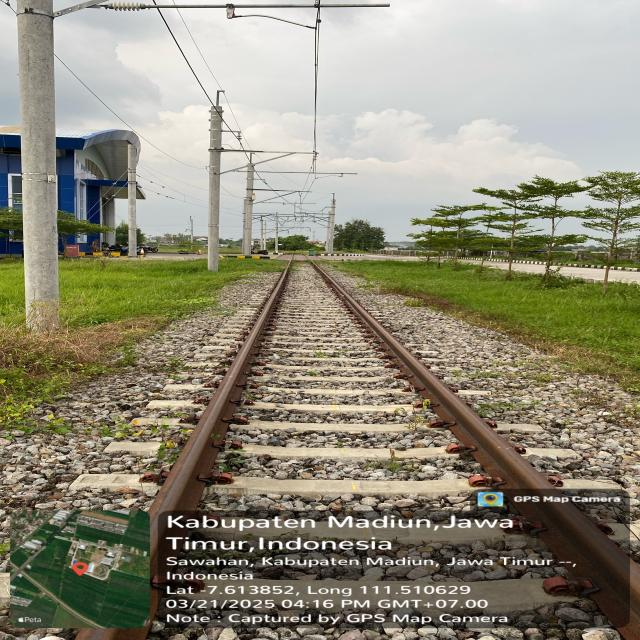rail-detection: (310, 262, 640, 640), (150, 266, 289, 570)
